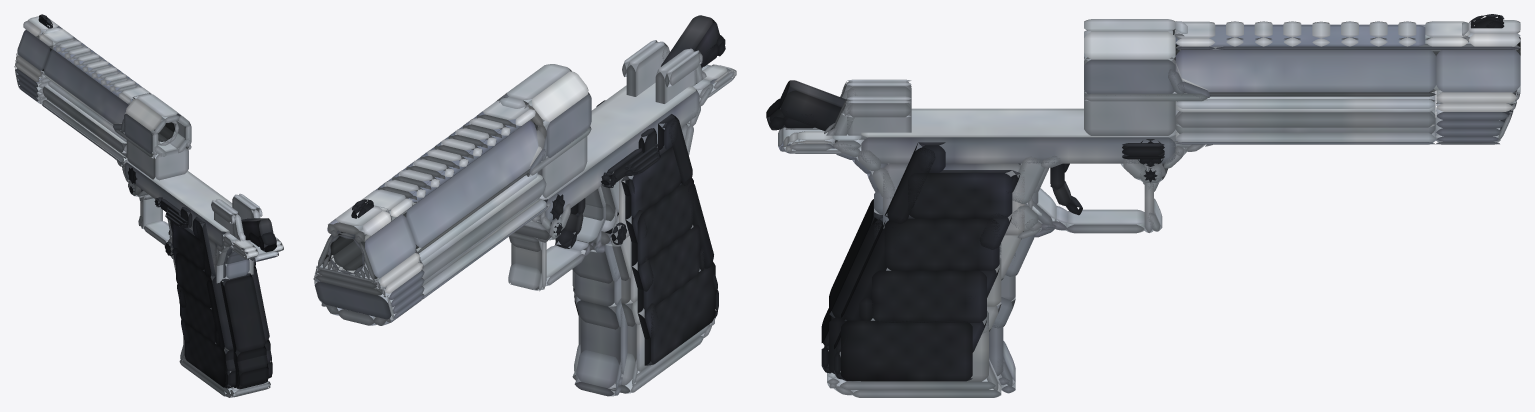
Rendered from deagle_357.fbx.
3 views of the same model, side by side, from view 1: azimuth 30°, elevation 25°; view 2: azimuth 150°, elevation 25°; view 3: azimuth 270°, elevation 25° (orthographic). The views are drawn at different scales.
Parts seen in each view (by area): view 1: cube_19, cube_120, cube_128, cube_108, octagon_37, cube_121, cube_198, cube_106, cube_105, cube_107, cube_129, octagon_44 (+20 smaller); view 2: cube_19, cube_128, cube_108, cube_106, cube_105, cube_198, cube_129, cube_107, octagon_38, octagon_44, cube_133, cube_60 (+53 smaller); view 3: cube_19, cube_143, cube_108, cube_105, cube_106, cube_198, cube_107, cube_146, octagon_37, octagon_52, cube_196, octagon_51 (+29 smaller).
Boxes of the visible parts, x1,y1,x2,y2 form: cube_19: (125, 153, 232, 247); cube_120: (221, 275, 265, 353); cube_128: (44, 49, 128, 124); cube_108: (184, 323, 270, 388); octagon_37: (126, 140, 188, 180); cube_121: (206, 271, 269, 350); cube_198: (42, 84, 126, 153); cube_106: (176, 253, 256, 307); cube_105: (180, 288, 215, 343); cube_107: (172, 222, 204, 270); cube_129: (17, 29, 51, 72); octagon_44: (124, 112, 158, 154); cube_19: (537, 83, 699, 224); cube_128: (403, 120, 538, 248); cube_108: (644, 262, 715, 365); cube_106: (631, 178, 693, 266); cube_105: (573, 224, 700, 312); cube_198: (422, 174, 546, 280); cube_129: (360, 214, 415, 281); cube_107: (617, 146, 682, 219); octagon_38: (525, 71, 588, 127); octagon_44: (537, 92, 591, 157); cube_133: (314, 280, 393, 319); cube_60: (580, 304, 627, 374); cube_19: (861, 108, 1175, 163); cube_143: (1175, 49, 1436, 92); cube_108: (841, 320, 972, 381); cube_105: (872, 270, 986, 322); cube_106: (884, 215, 999, 270); cube_198: (1175, 92, 1435, 127); cube_107: (908, 170, 1012, 218); cube_146: (1436, 49, 1520, 92); octagon_37: (1084, 90, 1175, 135); octagon_52: (1084, 57, 1175, 95); cube_196: (1175, 24, 1425, 46); octagon_51: (1084, 31, 1175, 61).
Size of the model in its own units: 21.29 by 88.29 by 164.
1 material, 1 textured.
